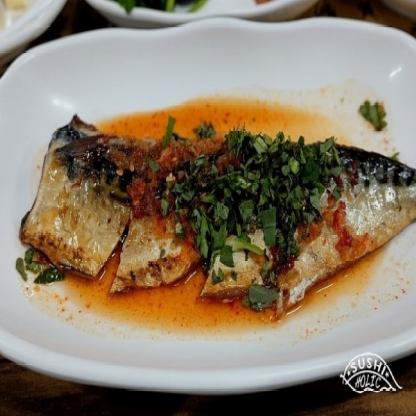Peixe: (26, 114, 416, 311)
